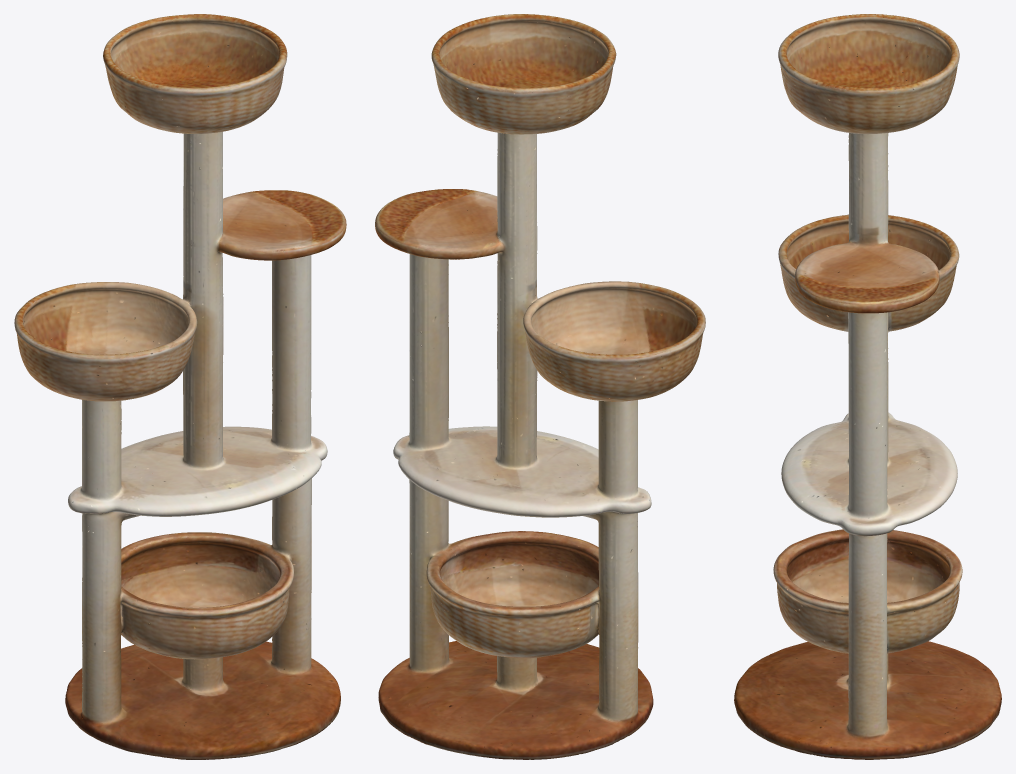
The picture shows the model from 3 angles, left to right: view 1: azimuth 30°, elevation 25°; view 2: azimuth 150°, elevation 25°; view 3: azimuth 270°, elevation 25°; orthographic projection.
Bounding box in the file's own units: 0.9909 × 2 × 0.7493.
1 material, 1 textured.
